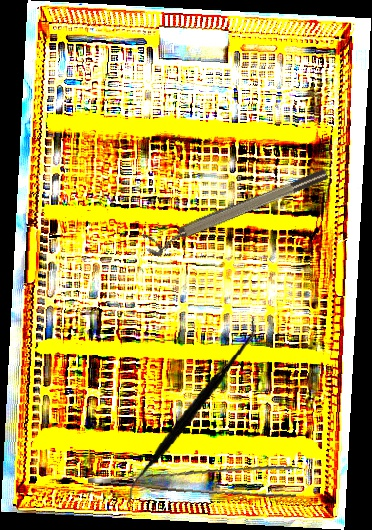Fixation Ring: (141, 165, 333, 260)
Spatula Surgical: (124, 306, 257, 514)
Tissue Forceps: (87, 441, 300, 509)
